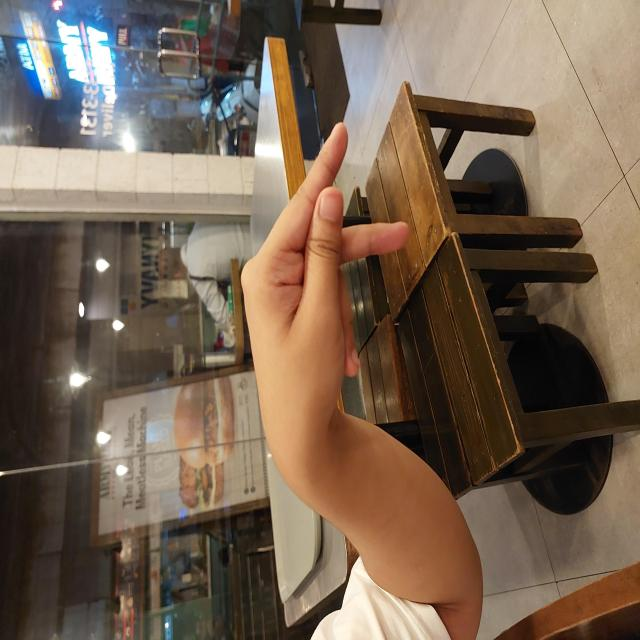P: (208, 239, 519, 410)
